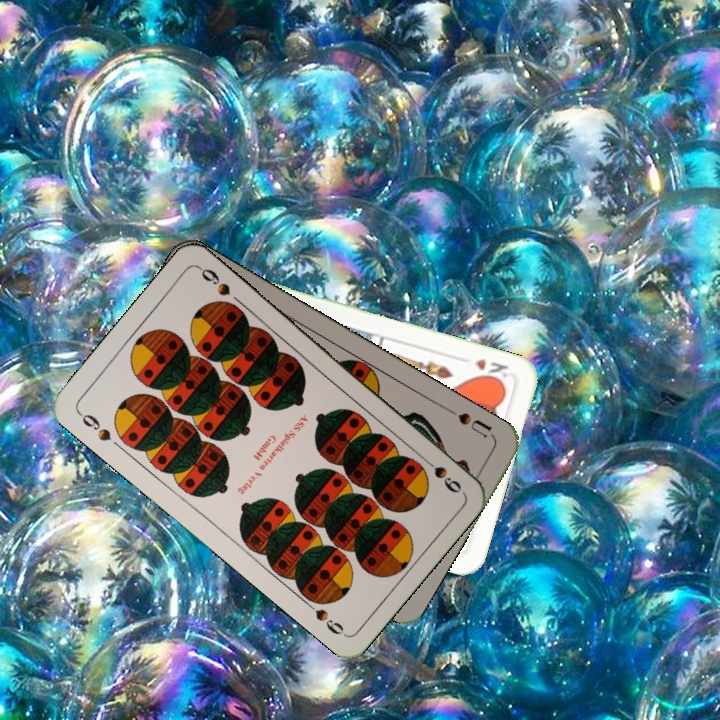HK: (471, 354, 511, 386)
S9: (416, 451, 464, 496), (74, 408, 114, 444)
SU: (443, 404, 497, 441)
